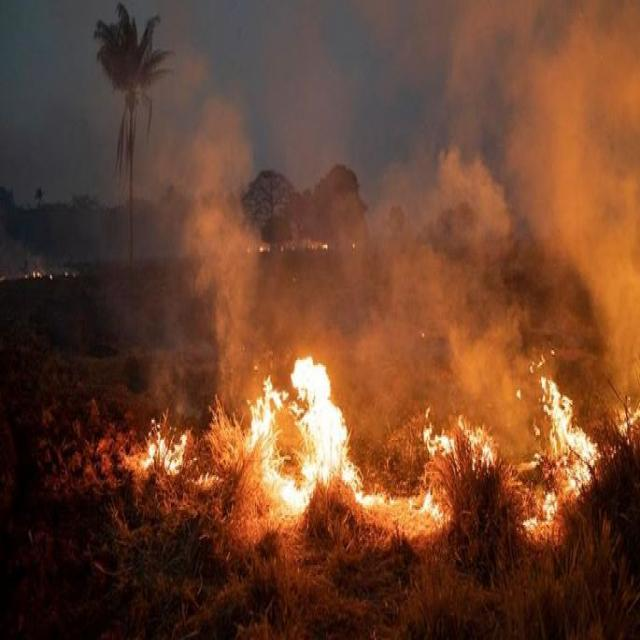Fire: (245, 356, 358, 506), (516, 371, 602, 523), (422, 406, 496, 474), (362, 482, 444, 525), (141, 426, 188, 482), (614, 393, 640, 448)
Smoke: (267, 0, 640, 352), (164, 68, 264, 352)
